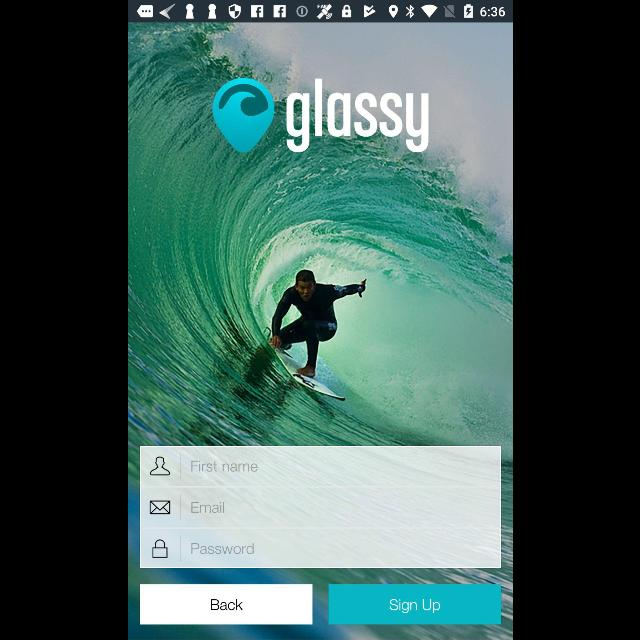backgroundimage: (128, 22, 512, 640)
icon: (150, 456, 168, 476), (148, 500, 170, 514), (152, 540, 166, 558)
image: (212, 78, 430, 154)
input: (140, 526, 500, 568), (140, 486, 500, 528), (140, 447, 500, 488)
text: (190, 460, 258, 472), (191, 544, 253, 554), (190, 502, 223, 514)
textbutton: (138, 584, 312, 624), (328, 585, 500, 625)
uppertaskbar: (128, 1, 512, 23)
